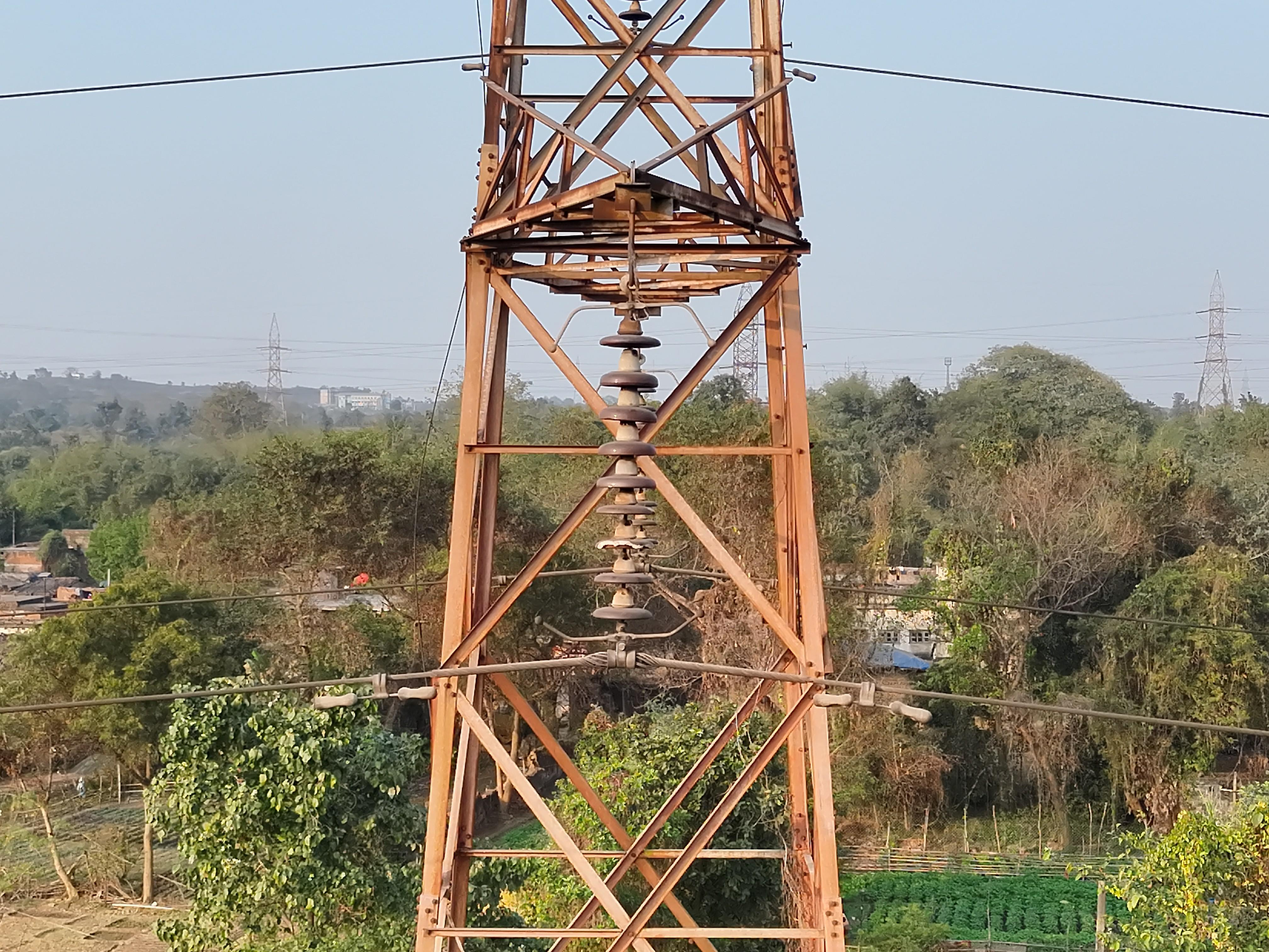broken_insulator: (594, 528, 658, 559)
